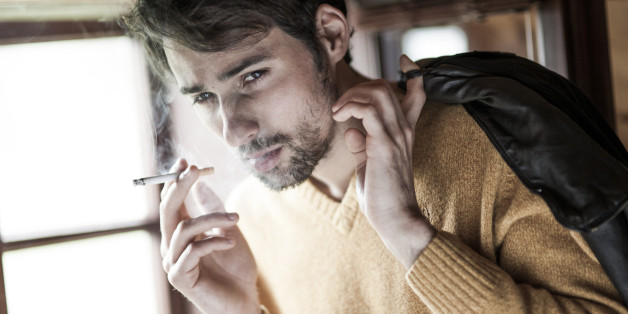cigarette: (123, 167, 228, 188)
